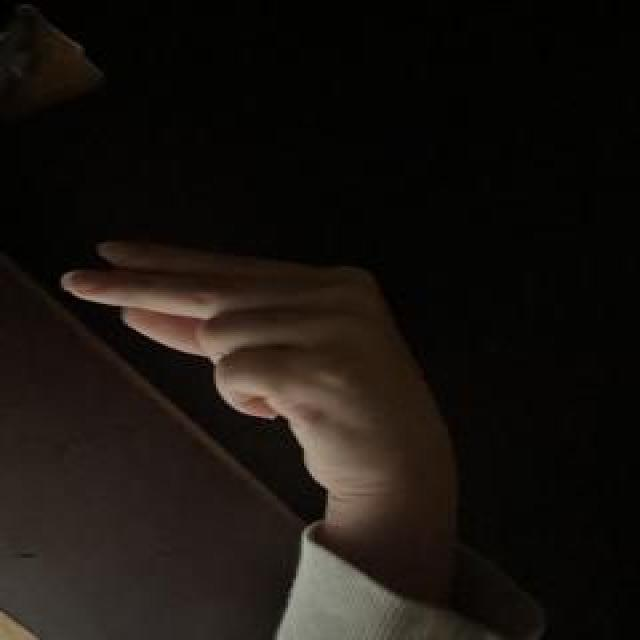H: (55, 235, 457, 499)
